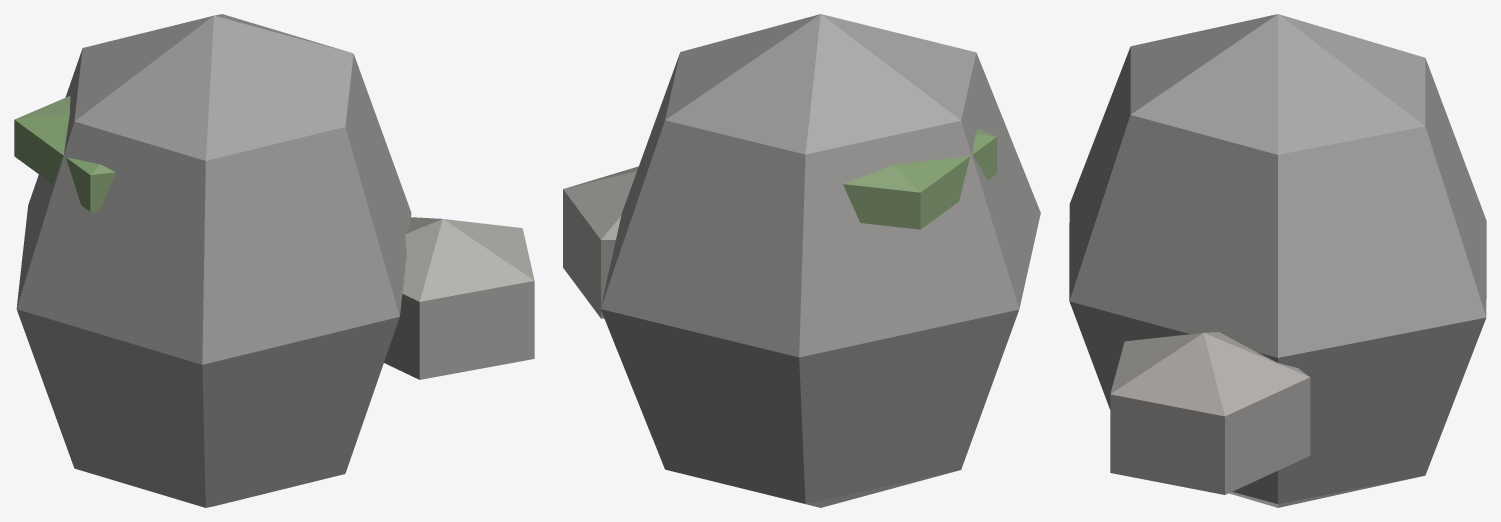
The model's file is rock2.glb.
3 views of the same model, side by side, from view 1: azimuth 30°, elevation 25°; view 2: azimuth 150°, elevation 25°; view 3: azimuth 270°, elevation 25° (orthographic).
Visible parts, largest first — view 1: rock22; view 2: rock22; view 3: rock22.
Part boxes in pixels (x1=…): rock22: x1=14, y1=14, x2=534, y2=507; rock22: x1=563, y1=14, x2=1040, y2=507; rock22: x1=1069, y1=14, x2=1486, y2=507.
Size of the model in its own units: 2.25 by 2.2 by 1.68.
